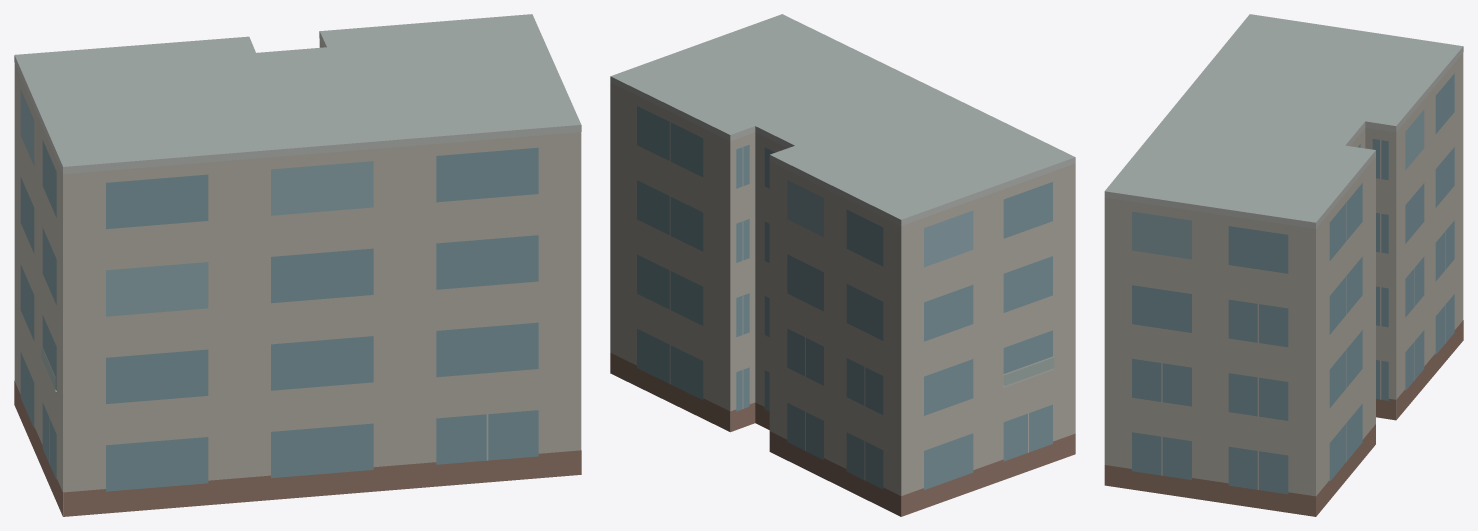
Rendered from survey-upis-32880903.glb.
3 views of the same model, side by side, from view 1: azimuth 30°, elevation 25°; view 2: azimuth 150°, elevation 25°; view 3: azimuth 270°, elevation 25° (orthographic). The views are drawn at different scales.
Visible parts, largest first — view 1: survey-upis-32880903.tmp; view 2: survey-upis-32880903.tmp; view 3: survey-upis-32880903.tmp.
Boxes of the visible parts, x1=… form: survey-upis-32880903.tmp: x1=14, y1=14, x2=581, y2=516; survey-upis-32880903.tmp: x1=610, y1=14, x2=1075, y2=516; survey-upis-32880903.tmp: x1=1104, y1=14, x2=1463, y2=516.
Bounding box in the file's own units: 17.81 × 11.7 × 12.95.
